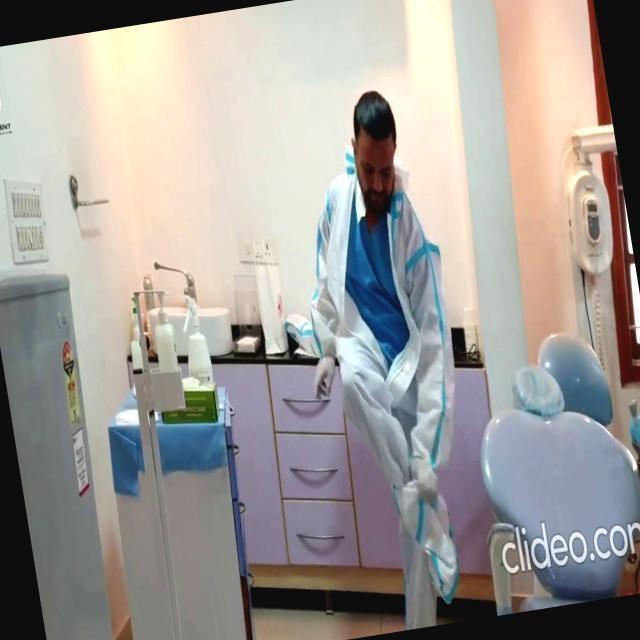apron: (303, 347, 349, 405), (409, 462, 449, 504)
no_gloves: (353, 96, 407, 132)
